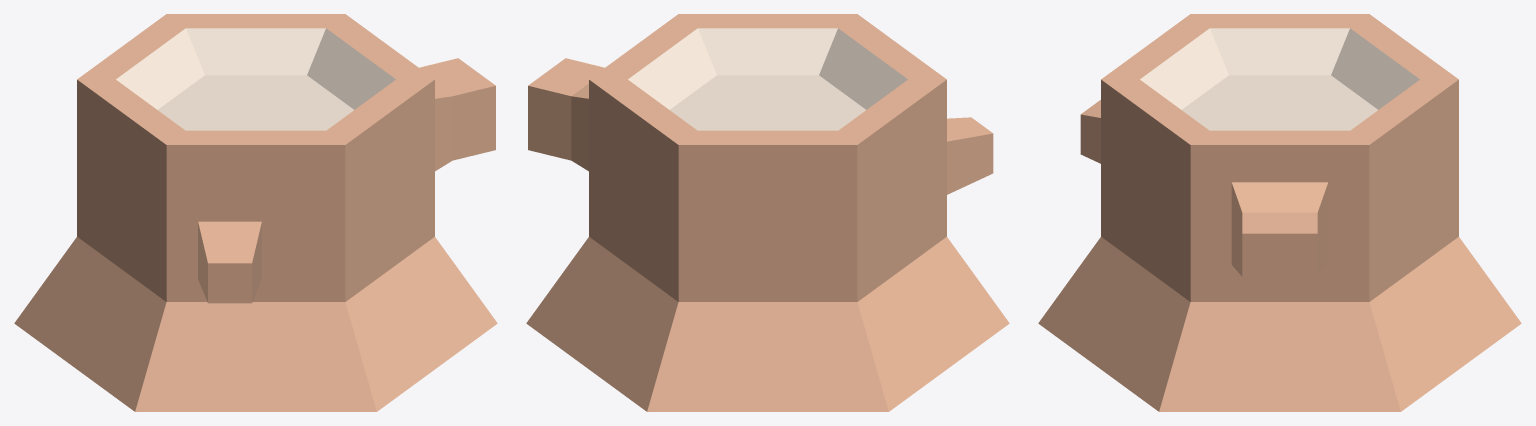
Rendered from stump_roundDetailed.glb.
3 renders of one model, left to right at view 1: azimuth 30°, elevation 25°; view 2: azimuth 150°, elevation 25°; view 3: azimuth 270°, elevation 25°, orthographic.
Visible parts, largest first — view 1: stump_roundDetailed; view 2: stump_roundDetailed; view 3: stump_roundDetailed.
Boxes of the visible parts, x1=… form: stump_roundDetailed: x1=14, y1=14, x2=497, y2=411; stump_roundDetailed: x1=526, y1=14, x2=1009, y2=411; stump_roundDetailed: x1=1038, y1=14, x2=1521, y2=411.
Size of the model in its own units: 0.3565 by 0.2065 by 0.371.
